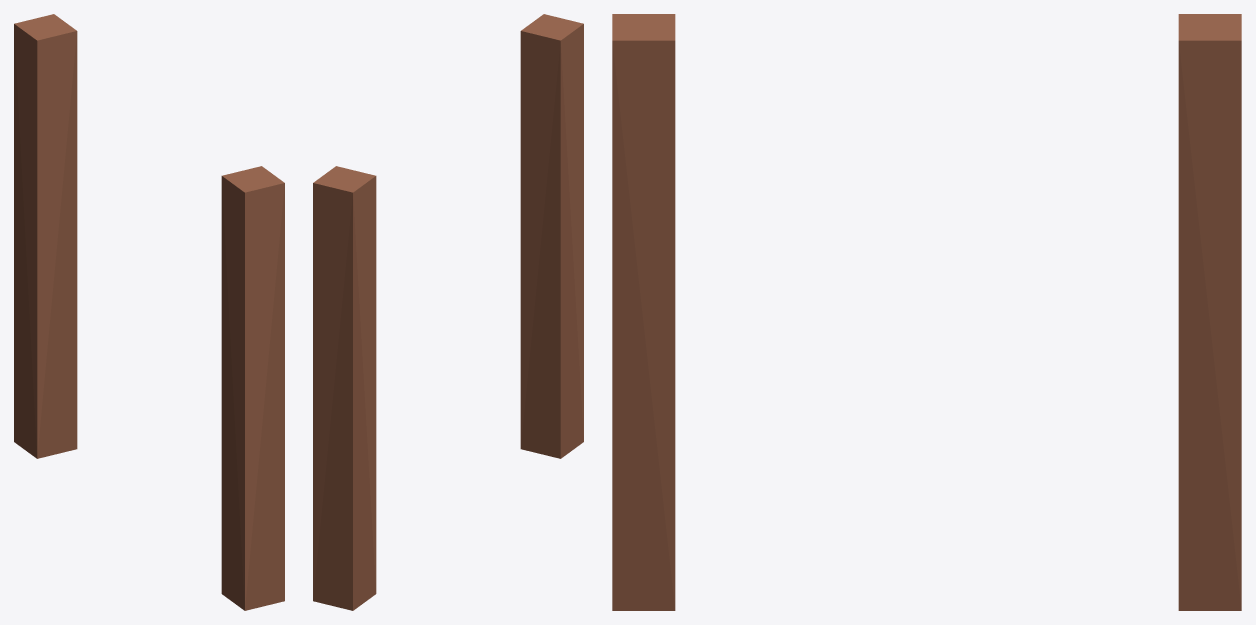
Rendered from fantasytown_poles.glb.
3 views of the same model, side by side, from view 1: azimuth 30°, elevation 25°; view 2: azimuth 150°, elevation 25°; view 3: azimuth 270°, elevation 25° (orthographic). The views are drawn at different scales.
Parts seen in each view (by area): view 1: fantasytown_poles; view 2: fantasytown_poles; view 3: fantasytown_poles.
Part boxes in pixels (bbox=[...]): fantasytown_poles: bbox=[14, 14, 284, 610]; fantasytown_poles: bbox=[313, 14, 583, 610]; fantasytown_poles: bbox=[612, 14, 1241, 610].
Bounding box in the file's own units: 0.1 × 1 × 1.
